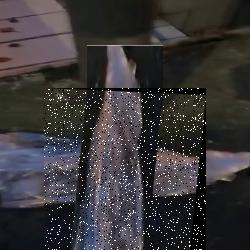plastic: (44, 88, 206, 250)
